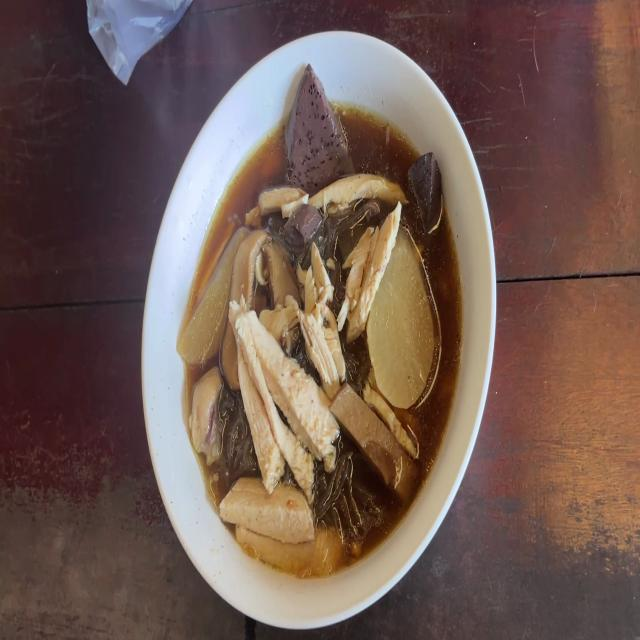boiled_chicken_blood_jelly: (286, 63, 350, 182), (406, 149, 443, 227), (288, 206, 315, 253)
chicken_shredded: (230, 298, 320, 482), (347, 208, 399, 328), (220, 479, 314, 535), (308, 250, 342, 384), (318, 171, 405, 207), (189, 372, 221, 456), (256, 186, 314, 220)
daikon_radish: (374, 249, 434, 396), (180, 224, 228, 363)
noodle: (186, 111, 456, 578)
